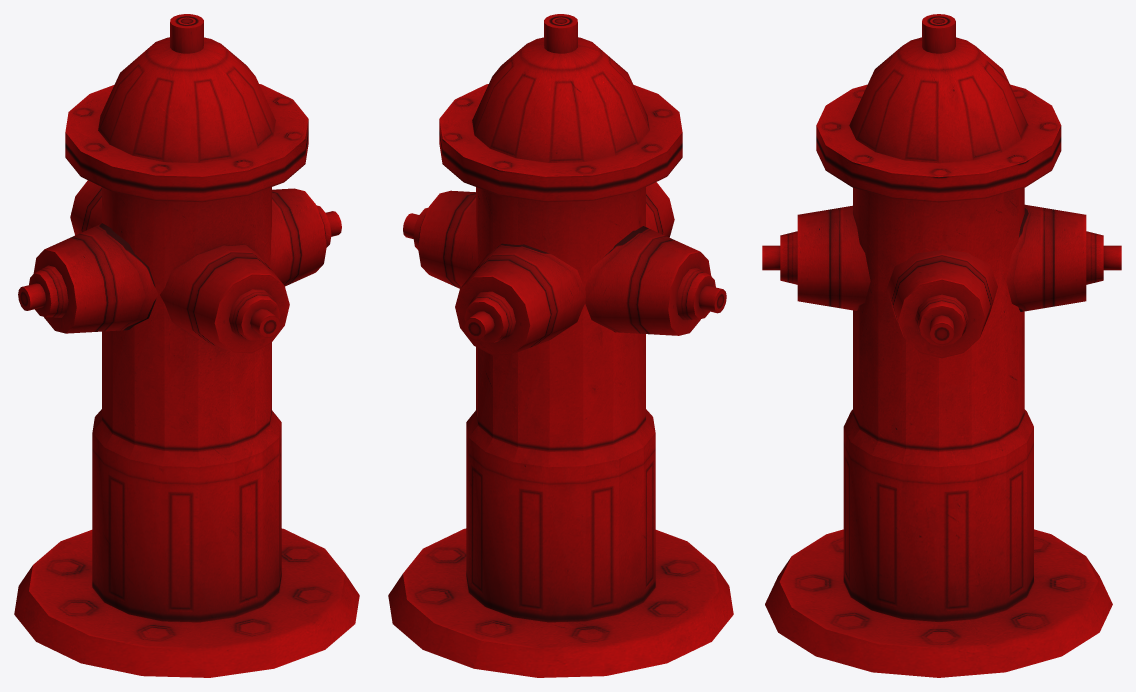
File: hydrant.fbx
3 views of the same model, side by side, from view 1: azimuth 30°, elevation 25°; view 2: azimuth 150°, elevation 25°; view 3: azimuth 270°, elevation 25° (orthographic).
Parts seen in each view (by area): view 1: Mesh; view 2: Mesh; view 3: Mesh.
Part boxes in pixels (<box>): Mesh: <box>14,14,359,677</box>; Mesh: <box>388,14,733,677</box>; Mesh: <box>762,14,1121,677</box>.
Bounding box in the file's own units: 116 × 207 × 116.
